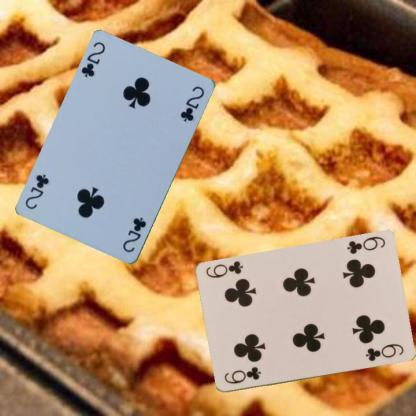2c: (78, 39, 107, 79), (120, 215, 148, 254)
6c: (344, 234, 386, 256), (222, 364, 262, 385)
